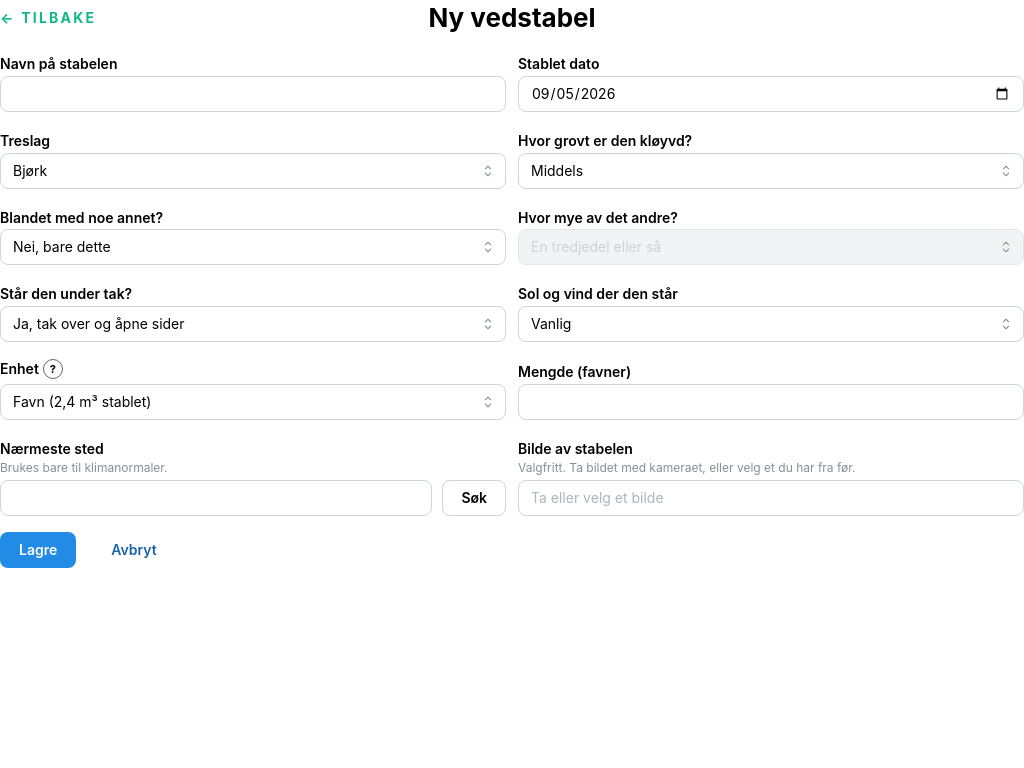
Test: AddStackForm › explains that the volume units are not the same amount
The width and height of the screenshot is (1024, 768).
Click the button named "favn, stablet" at (53, 369), box left=43, top=359, right=63, bottom=379
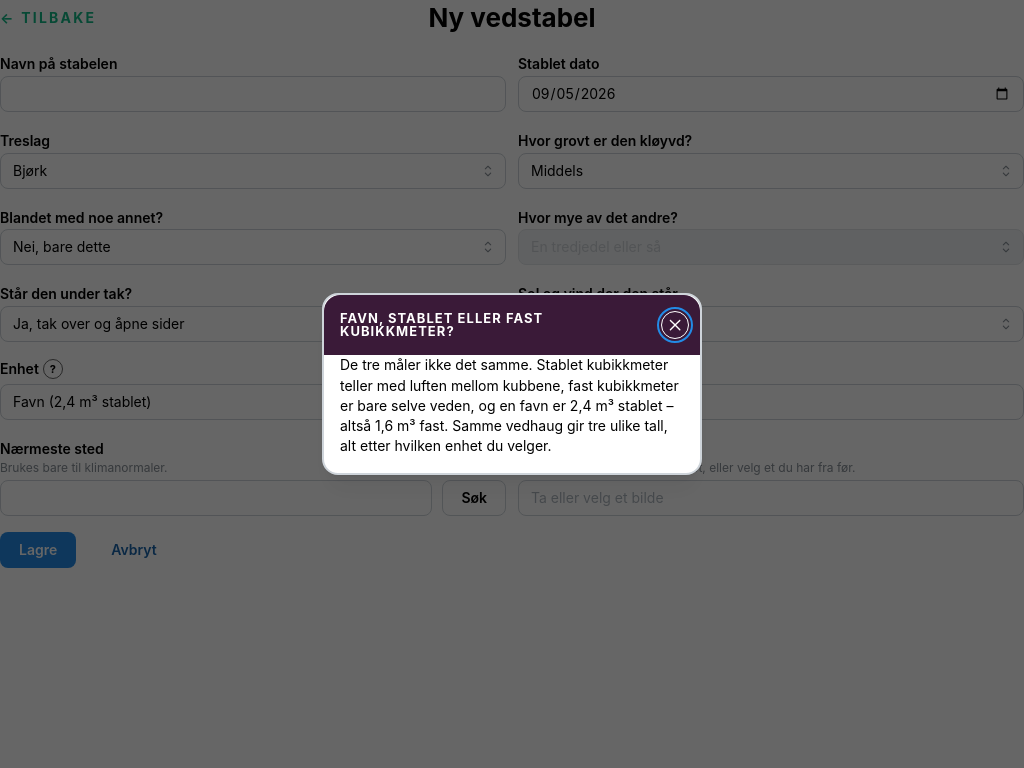
Check: the text "luften mellom kubbene" is shown, box left=340, top=356, right=679, bottom=454
